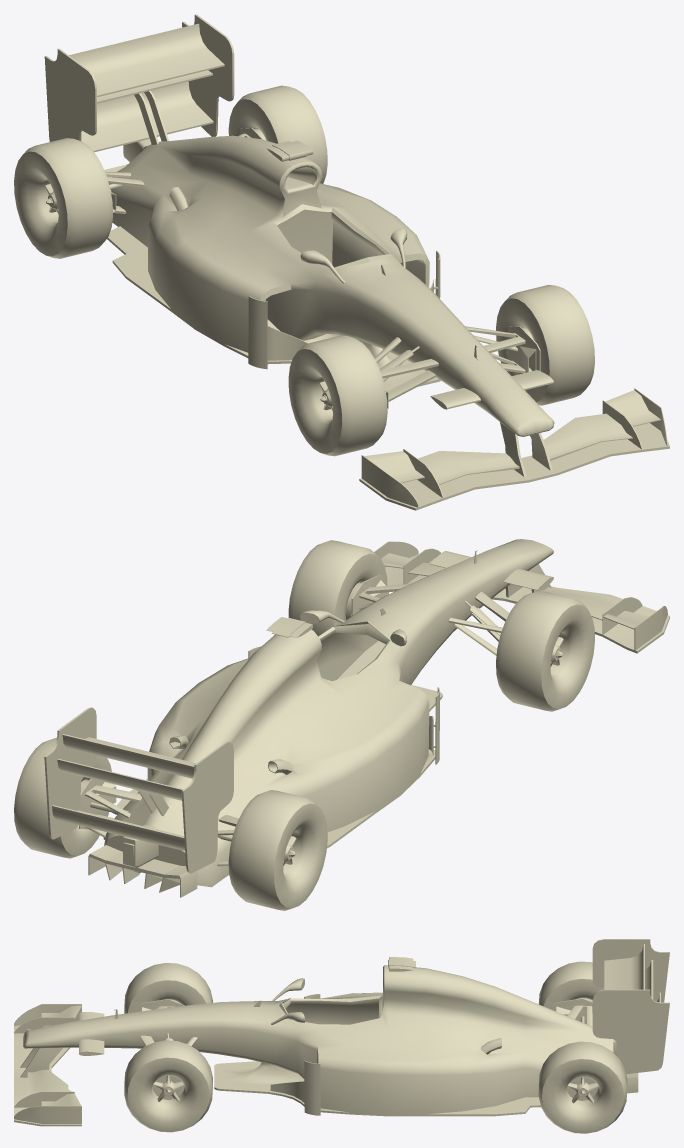
Rendered from uploads_files_4910989_F1.fbx.
3 renders of one model, top to bottom at view 1: azimuth 30°, elevation 25°; view 2: azimuth 150°, elevation 25°; view 3: azimuth 270°, elevation 25°, orthographic. The views are drawn at different scales.
Parts seen in each view (by area): view 1: Formula 1; view 2: Formula 1; view 3: Formula 1.
Boxes of the visible parts, bbox=[...] form: Formula 1: bbox=[14, 14, 669, 510]; Formula 1: bbox=[14, 539, 669, 910]; Formula 1: bbox=[14, 939, 669, 1133].
Bounding box in the file's own units: 1829 × 1031 × 4887.
